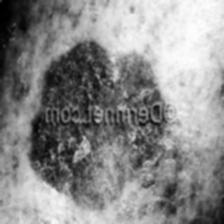Potentially Malignant Skin Tumors: (35, 38, 170, 103)
